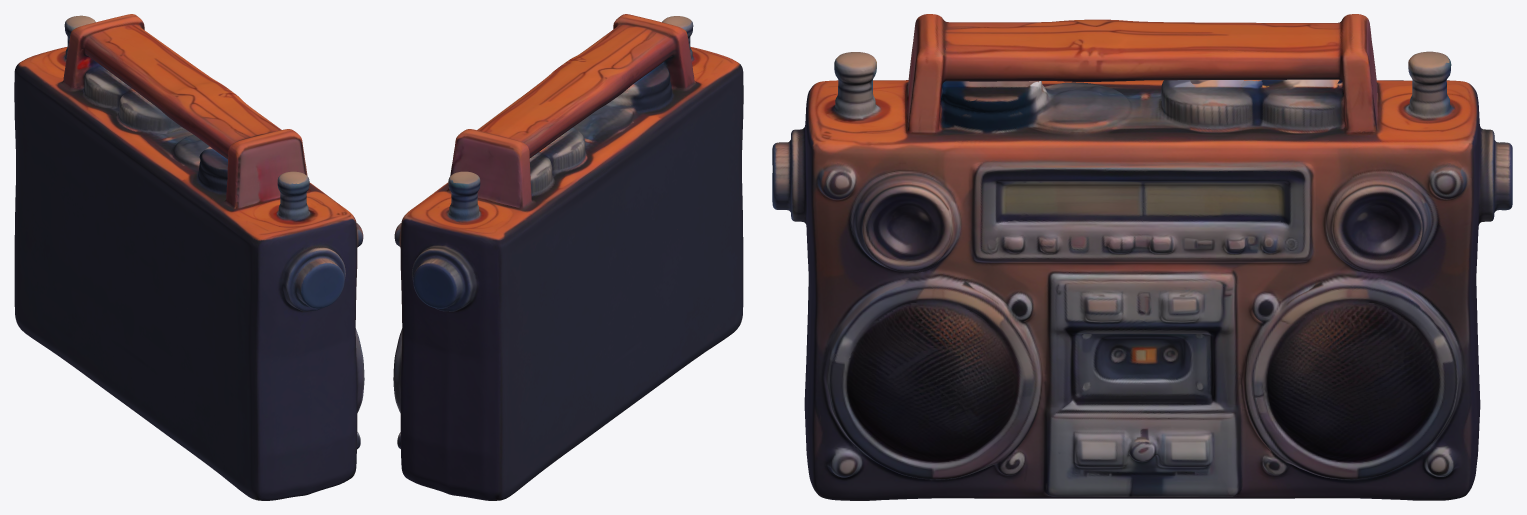
Rendered from tripo_pbr_model_ae8bafbb-a741-4c96-984f-bd1a21d583c5.glb.
The picture shows the model from 3 angles, left to right: view 1: azimuth 30°, elevation 25°; view 2: azimuth 150°, elevation 25°; view 3: azimuth 270°, elevation 25°; orthographic projection. The views are drawn at different scales.
Parts seen in each view (by area): view 1: tripo_node_ae8bafbb-a741-4c96-984f-bd1a21d583c5; view 2: tripo_node_ae8bafbb-a741-4c96-984f-bd1a21d583c5; view 3: tripo_node_ae8bafbb-a741-4c96-984f-bd1a21d583c5.
Boxes of the visible parts, x1=… form: tripo_node_ae8bafbb-a741-4c96-984f-bd1a21d583c5: x1=14, y1=14, x2=364, y2=500; tripo_node_ae8bafbb-a741-4c96-984f-bd1a21d583c5: x1=393, y1=14, x2=743, y2=500; tripo_node_ae8bafbb-a741-4c96-984f-bd1a21d583c5: x1=772, y1=14, x2=1512, y2=500.
Size of the model in its own units: 0.2466 by 0.6316 by 0.9502.
Materials: 1 (1 with a texture image).
